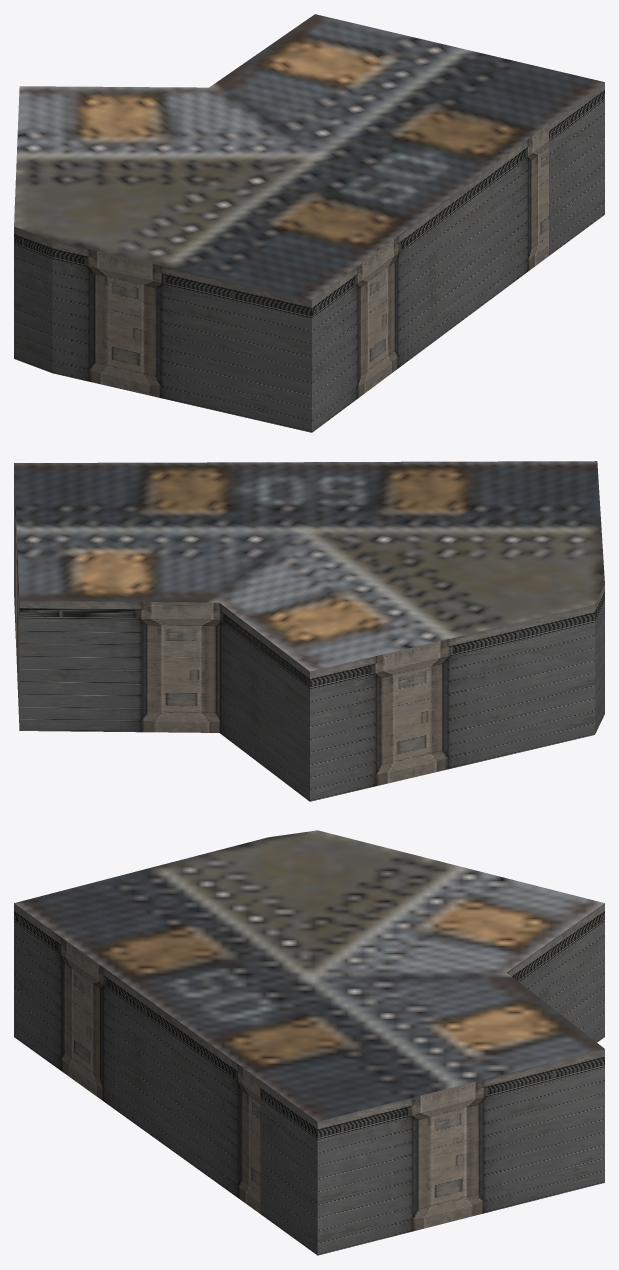
File: hangar_medium_a_50.glb
The picture shows the model from 3 angles, top to bottom: view 1: azimuth 30°, elevation 25°; view 2: azimuth 150°, elevation 25°; view 3: azimuth 270°, elevation 25°; orthographic projection. The views are drawn at different scales.
Parts seen in each view (by area): view 1: buildings/saxarba/hangar_medium/hangar_medium_a_50; view 2: buildings/saxarba/hangar_medium/hangar_medium_a_50; view 3: buildings/saxarba/hangar_medium/hangar_medium_a_50.
Boxes of the visible parts, box(x1,y1,x2,y2) form: buildings/saxarba/hangar_medium/hangar_medium_a_50: box(14, 14, 604, 432); buildings/saxarba/hangar_medium/hangar_medium_a_50: box(14, 461, 604, 801); buildings/saxarba/hangar_medium/hangar_medium_a_50: box(14, 830, 604, 1255).
Bounding box in the file's own units: 84 × 18 × 72.
